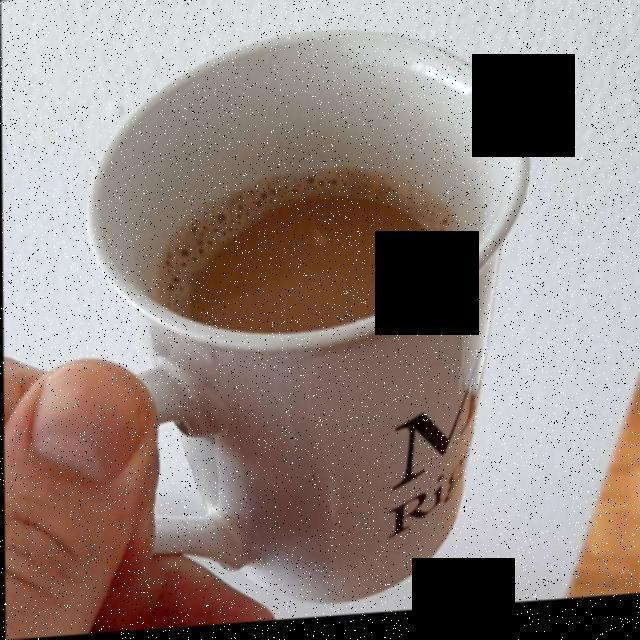coffee: (167, 187, 453, 336)
